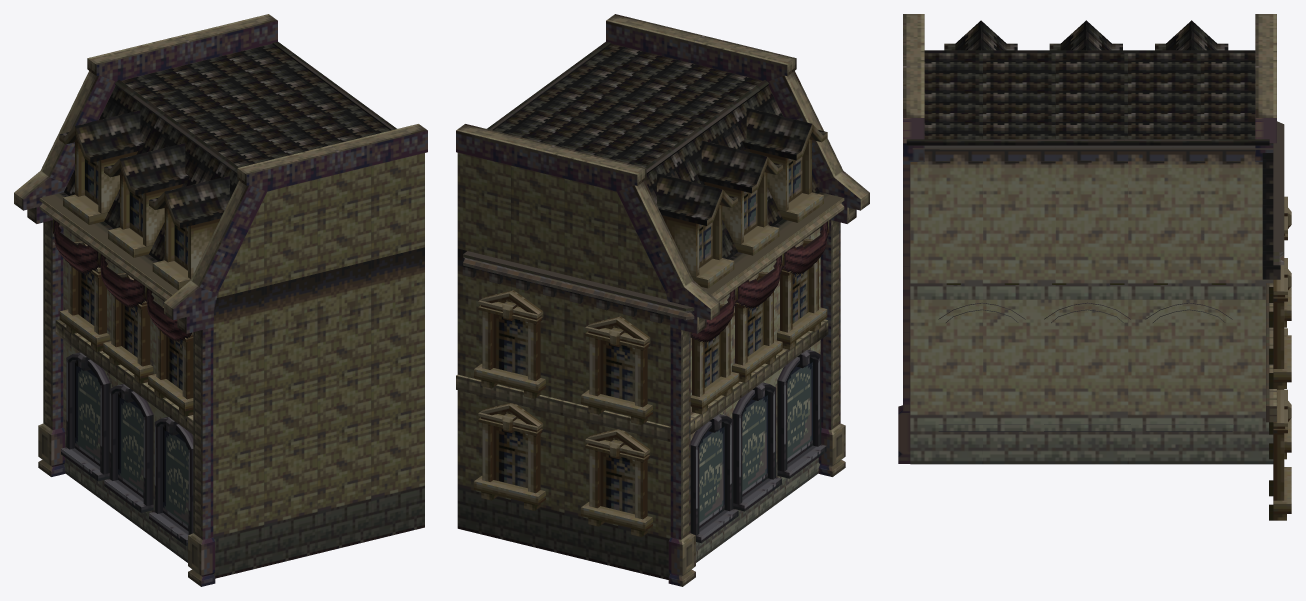
The model's file is EnvBdgMD_City_B_Outdoor_L_F.FBX.
The picture shows the model from 3 angles, left to right: view 1: azimuth 30°, elevation 25°; view 2: azimuth 150°, elevation 25°; view 3: azimuth 270°, elevation 25°; orthographic projection. The views are drawn at different scales.
Visible parts, largest first — view 1: EnvBdgMD_City_B_Outdoor_L_F; view 2: EnvBdgMD_City_B_Outdoor_L_F; view 3: EnvBdgMD_City_B_Outdoor_L_F.
Boxes of the visible parts, bbox=[...] form: EnvBdgMD_City_B_Outdoor_L_F: bbox=[14, 14, 427, 586]; EnvBdgMD_City_B_Outdoor_L_F: bbox=[456, 14, 869, 586]; EnvBdgMD_City_B_Outdoor_L_F: bbox=[898, 14, 1291, 520].
Bounding box in the file's own units: 476 × 713 × 541.
Materials: 1 (1 with a texture image).
